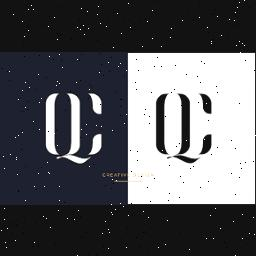q: (41, 88, 89, 168)
